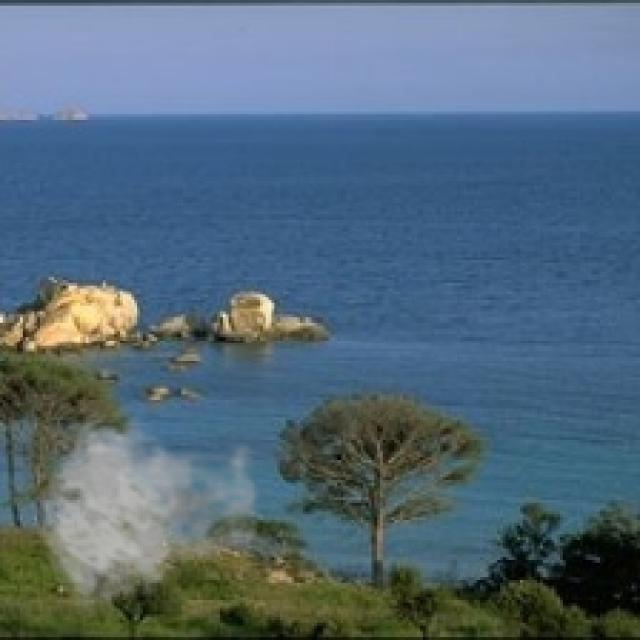smoke: (32, 408, 277, 612)
